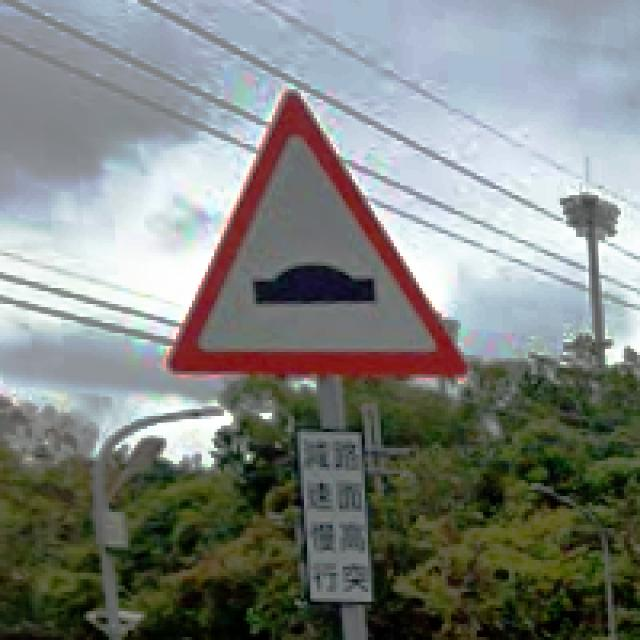hump: (168, 94, 470, 376)
